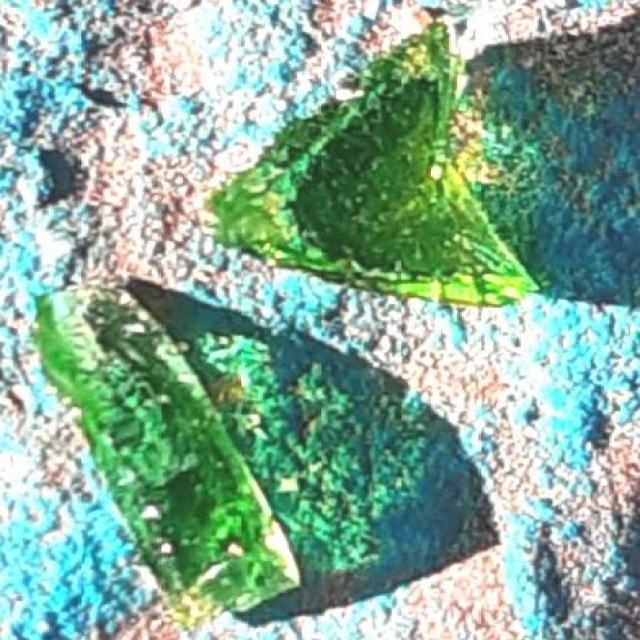Dry: (210, 17, 547, 315), (37, 279, 286, 621)
